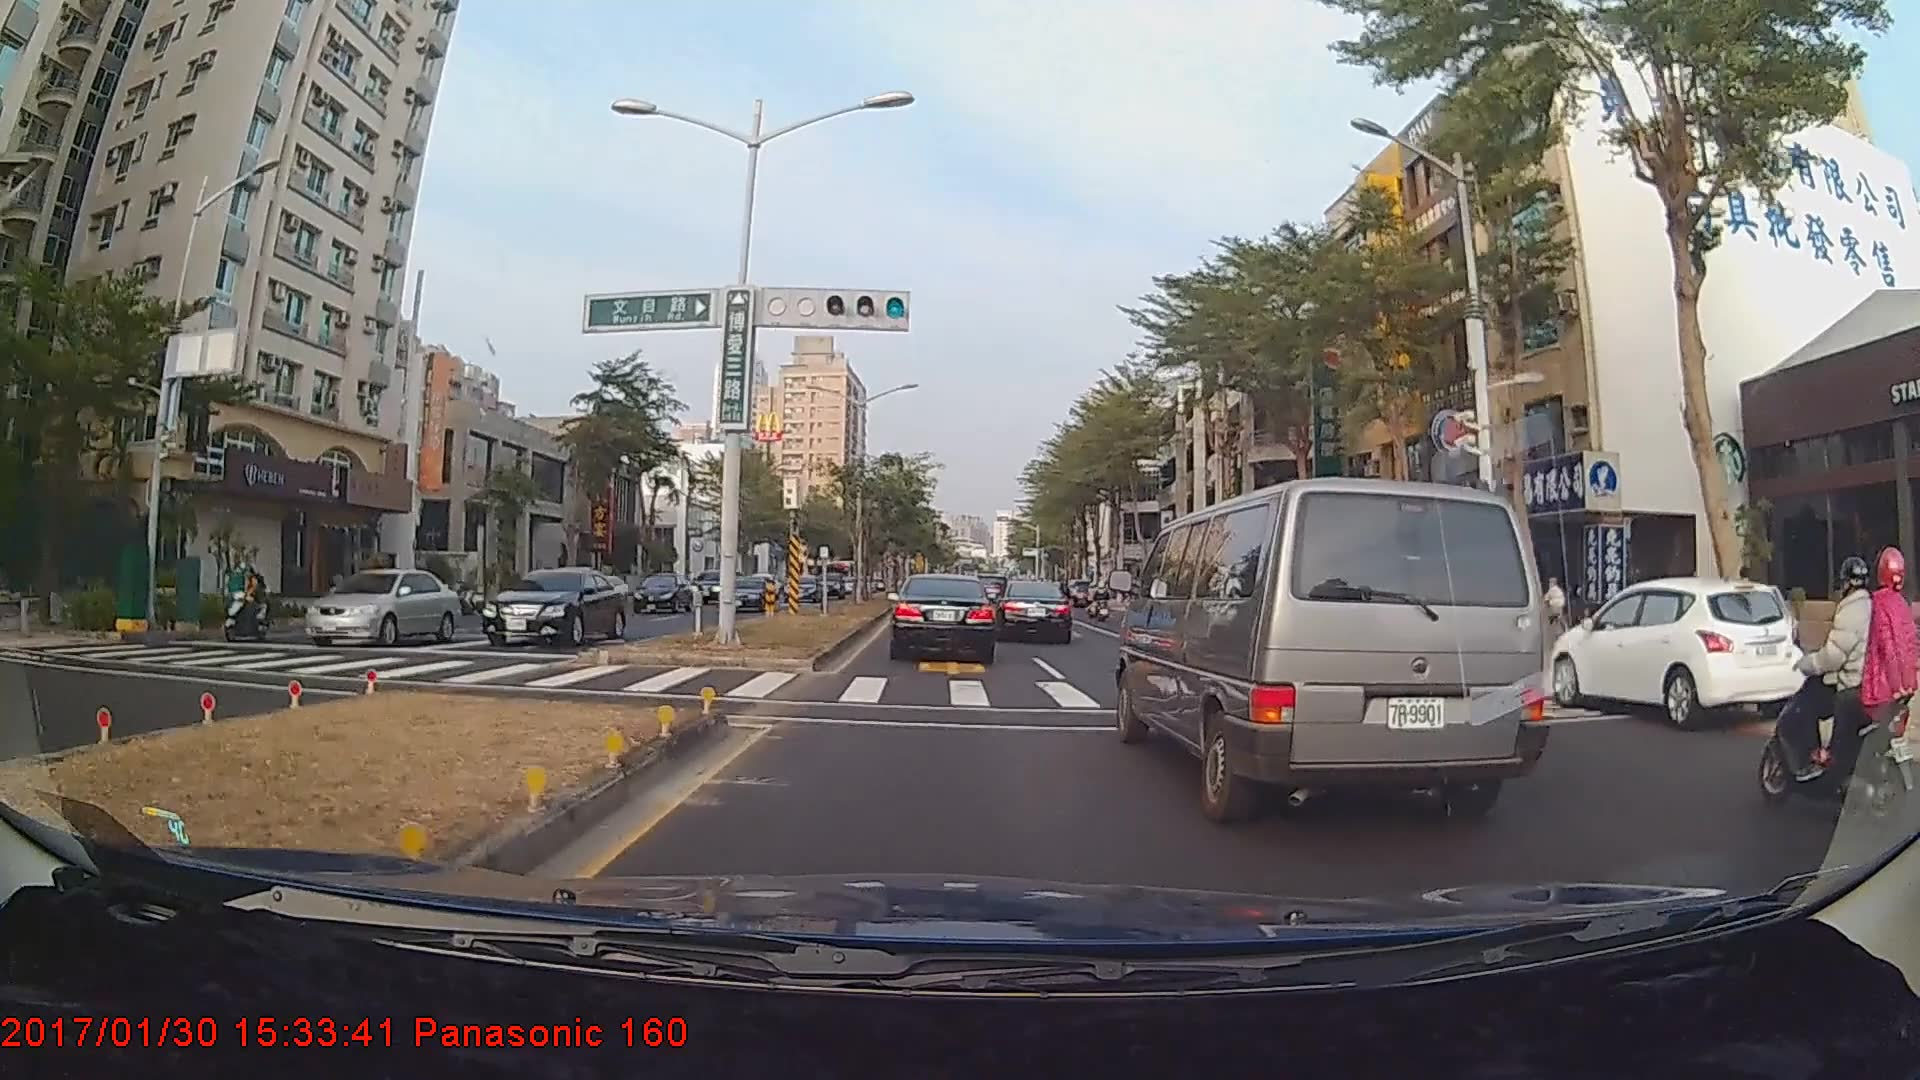rider: (1758, 555, 1915, 812), (221, 566, 275, 643)
vehicle: (1126, 468, 1545, 819), (1561, 577, 1793, 722), (300, 569, 458, 651), (479, 567, 626, 647), (890, 575, 998, 662), (995, 579, 1072, 643), (632, 572, 694, 615), (718, 574, 770, 610), (780, 573, 820, 603)
